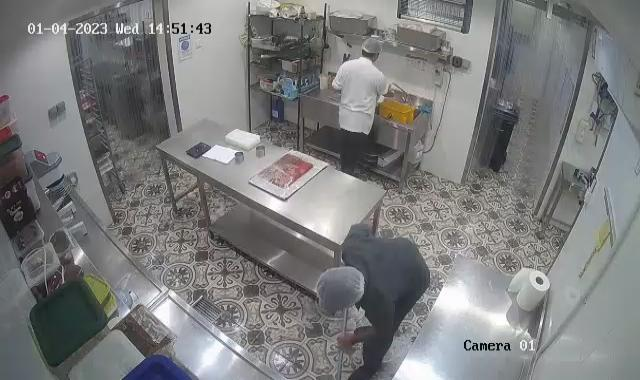hairnet: (316, 268, 368, 312), (360, 35, 382, 61)
